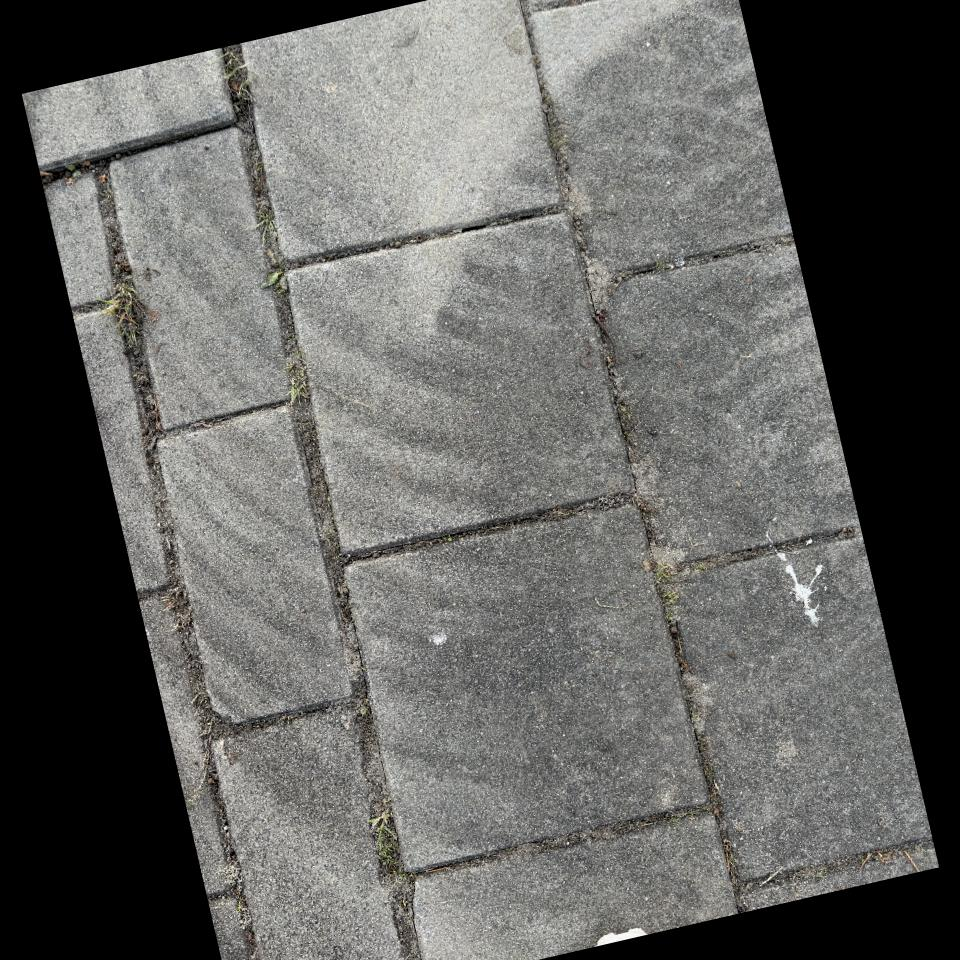weed: (100, 273, 149, 345), (367, 800, 403, 877), (261, 263, 287, 293), (254, 211, 276, 243), (290, 378, 308, 407)
